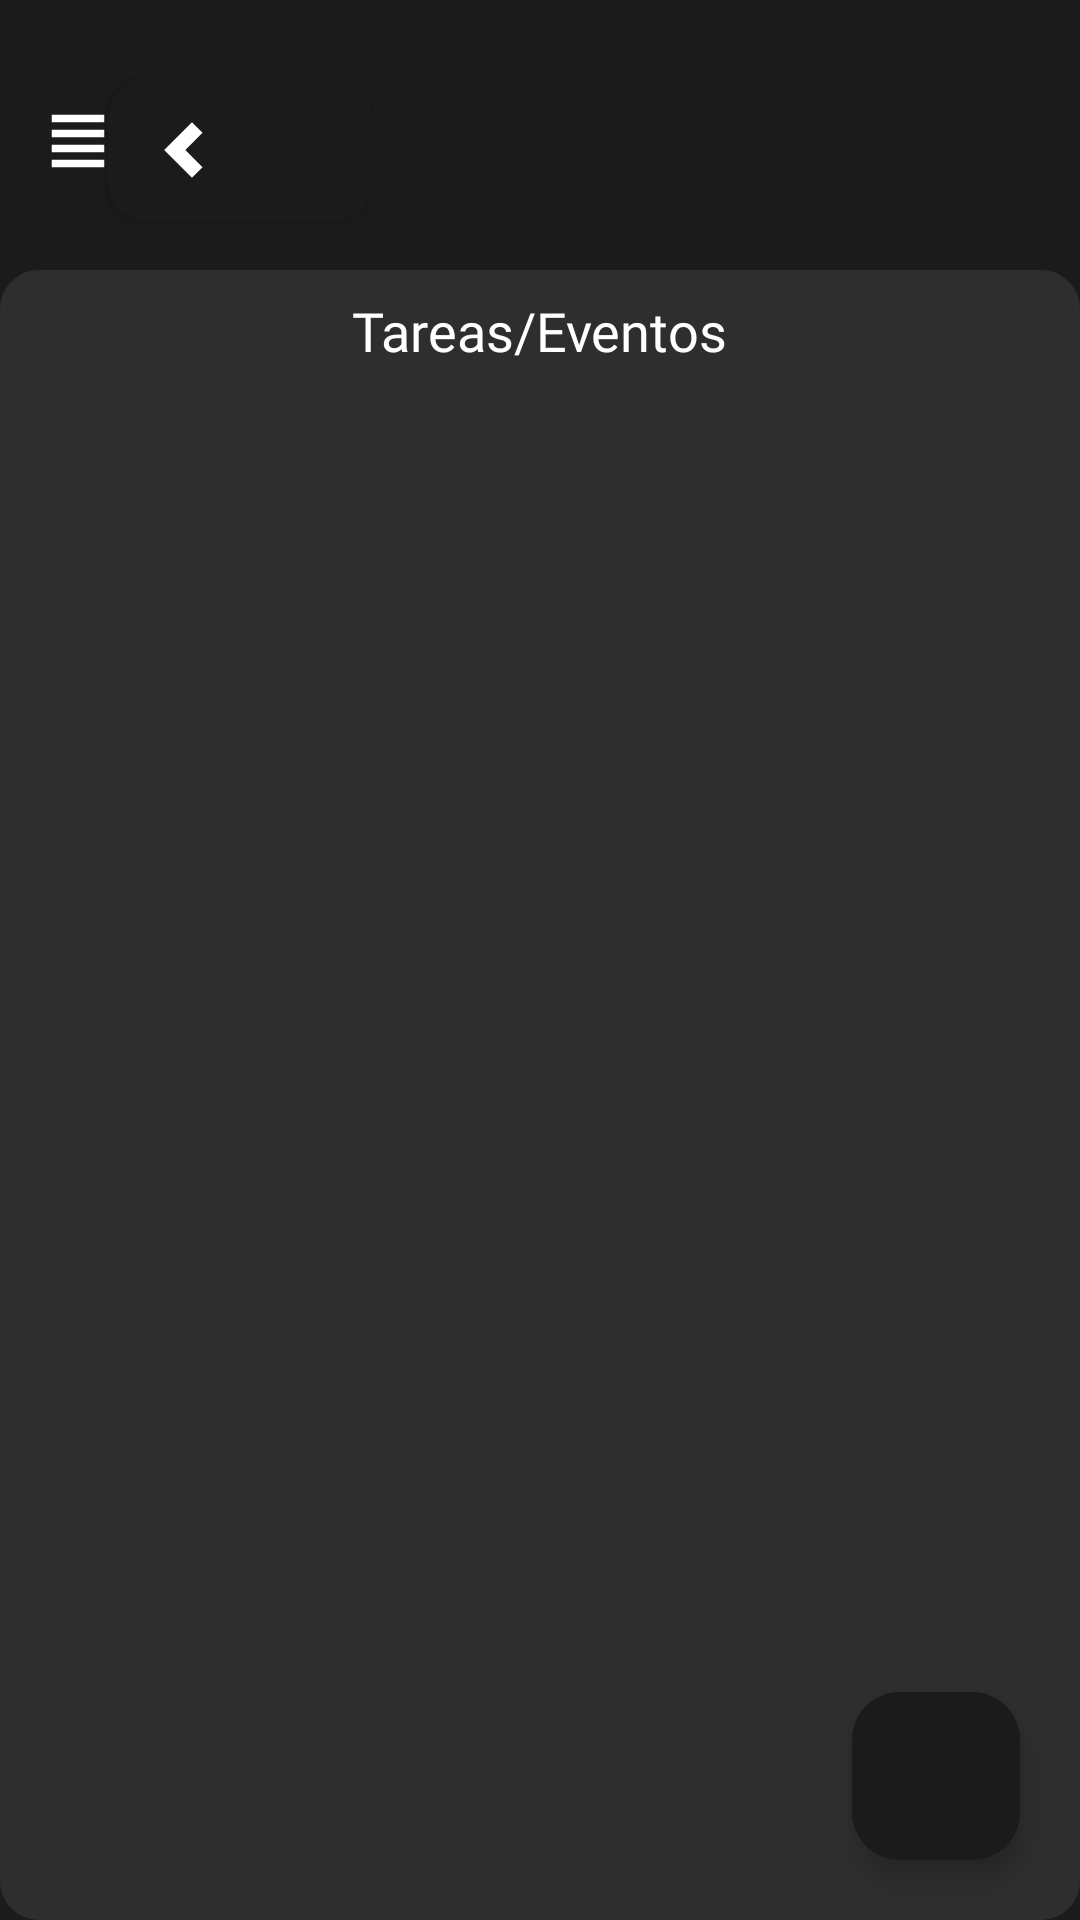

Named icons in this screenshot (1080×1920) and their centers, point (x, y):
treslineas: point (78, 141)
